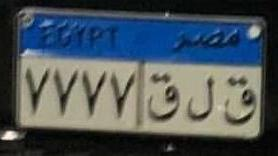7: (23, 64, 51, 117), (110, 71, 136, 120), (81, 69, 107, 117), (53, 66, 77, 117)
laam: (186, 72, 216, 123)
qaaf: (144, 70, 183, 124), (220, 74, 257, 129)
